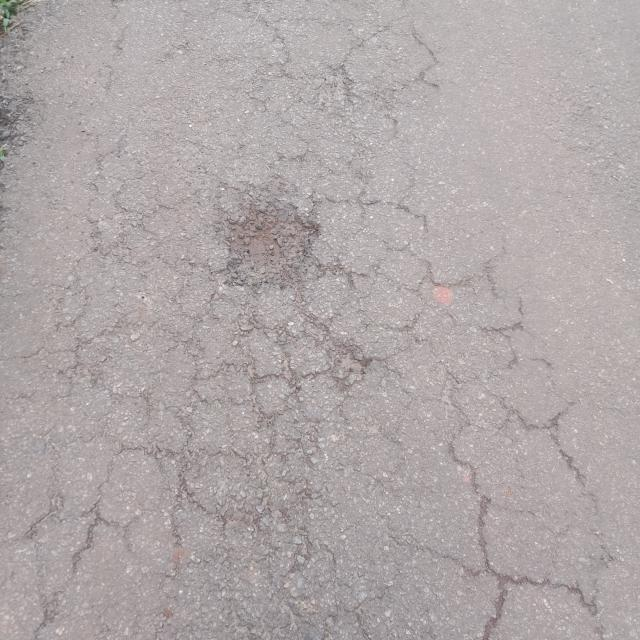pothole: (214, 190, 326, 300)
